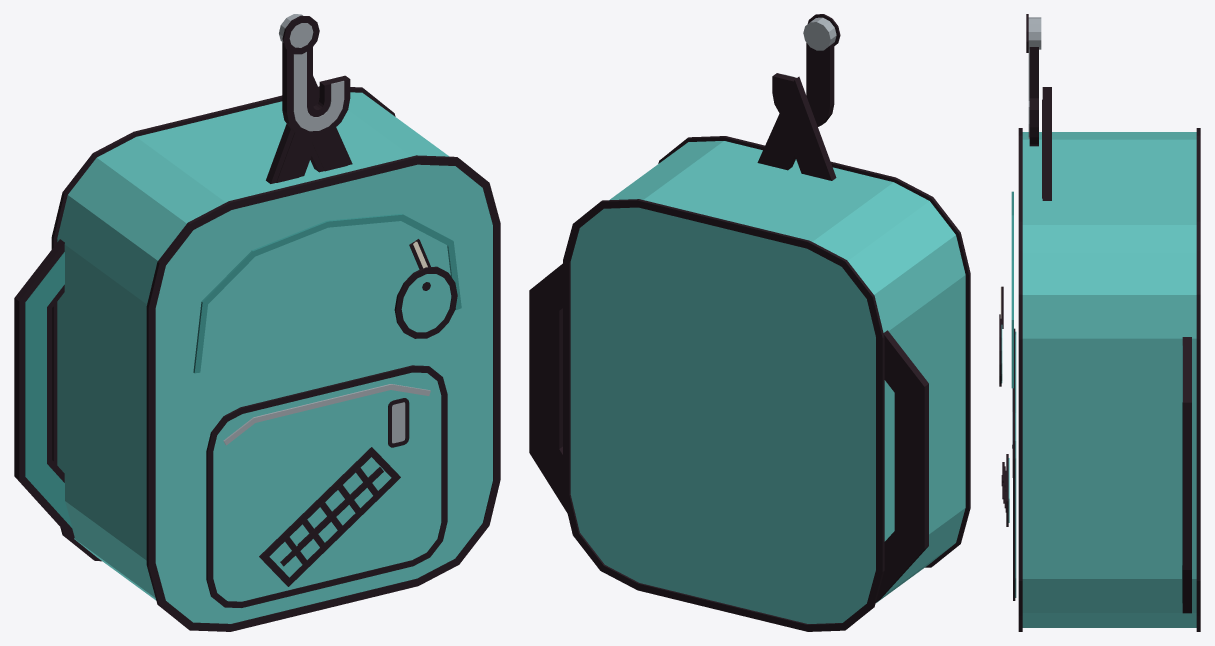
The picture shows the model from 3 angles, left to right: view 1: azimuth 30°, elevation 25°; view 2: azimuth 150°, elevation 25°; view 3: azimuth 270°, elevation 25°; orthographic projection. The views are drawn at different scales.
Parts seen in each view (by area): view 1: Bag Holders proposal; view 2: Bag Holders proposal; view 3: Bag Holders proposal.
Boxes of the visible parts, <box> form: Bag Holders proposal: <box>14,14,500,631</box>; Bag Holders proposal: <box>529,14,970,631</box>; Bag Holders proposal: <box>999,14,1200,631</box>.
Size of the model in its own units: 0.7974 by 1.04 by 0.3405.
